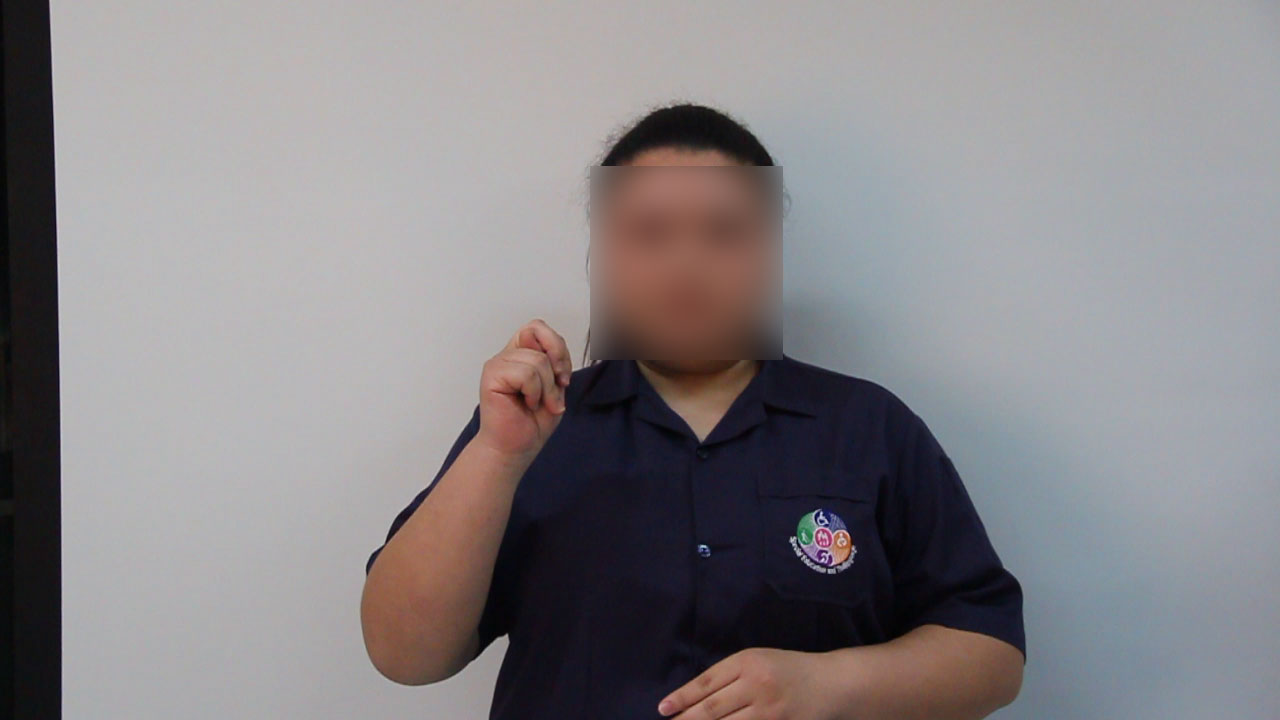nor: (462, 312, 595, 443)
